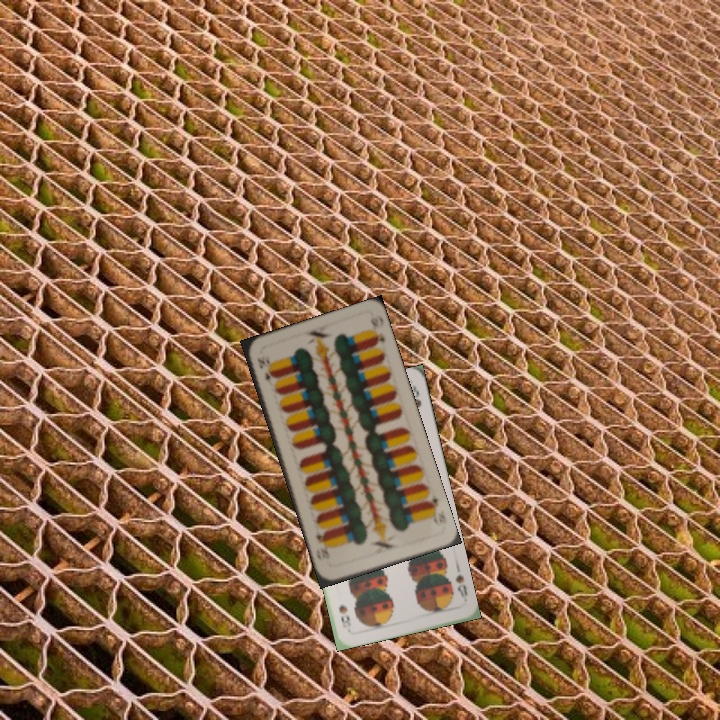E10: (422, 491, 449, 529), (253, 354, 276, 389)
S8: (451, 570, 470, 601)
